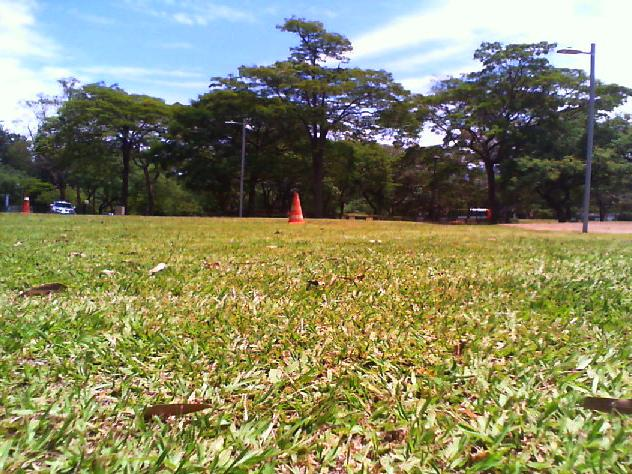0 cone: (287, 191, 305, 224)
